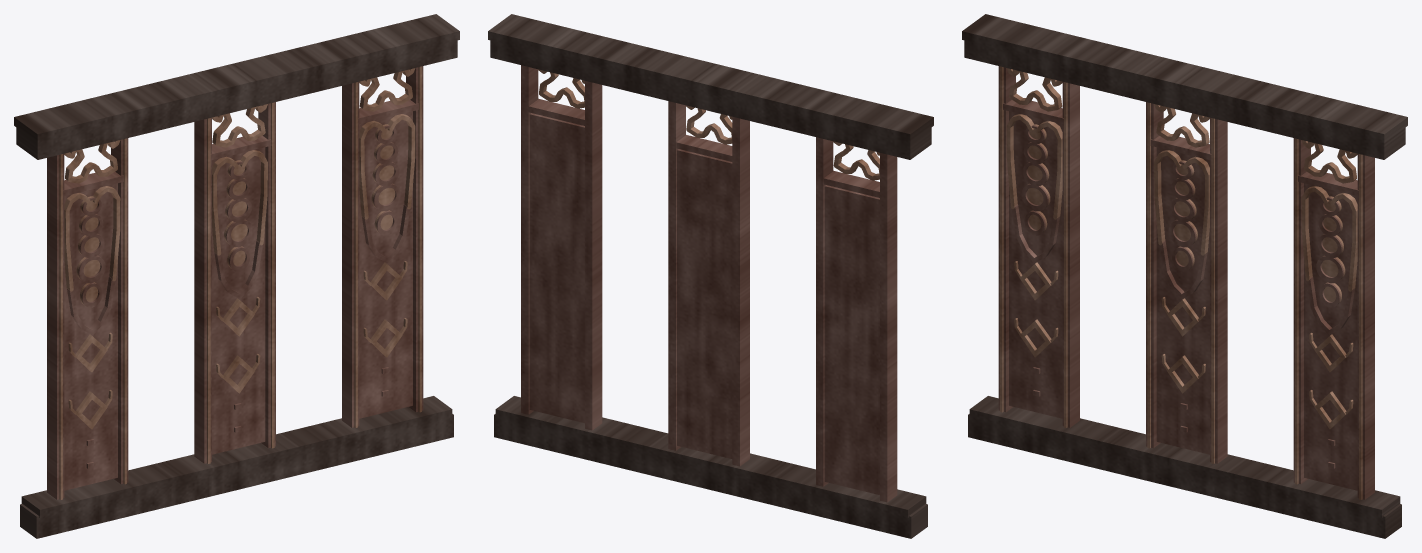
The model's file is xiasha-223-gallery-relief-strips-near.glb.
3 renders of one model, left to right at view 1: azimuth 30°, elevation 25°; view 2: azimuth 150°, elevation 25°; view 3: azimuth 330°, elevation 25°, orthographic.
Parts seen in each view (by area): view 1: 下沙街223号楼廊竖饰板的长框与菱花; view 2: 下沙街223号楼廊竖饰板的长框与菱花; view 3: 下沙街223号楼廊竖饰板的长框与菱花.
Boxes of the visible parts, x1,y1,x2,y2 form: 下沙街223号楼廊竖饰板的长框与菱花: (14,14,459,538); 下沙街223号楼廊竖饰板的长框与菱花: (488,14,933,538); 下沙街223号楼廊竖饰板的长框与菱花: (962,14,1407,538).
Size of the model in its own units: 1.69 by 1.56 by 0.163.
4 materials, 4 textured.
